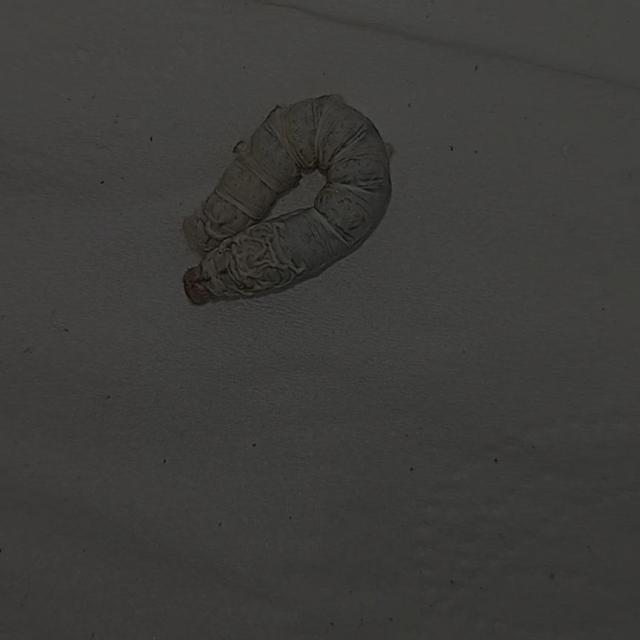Healthy: (163, 70, 411, 327)
